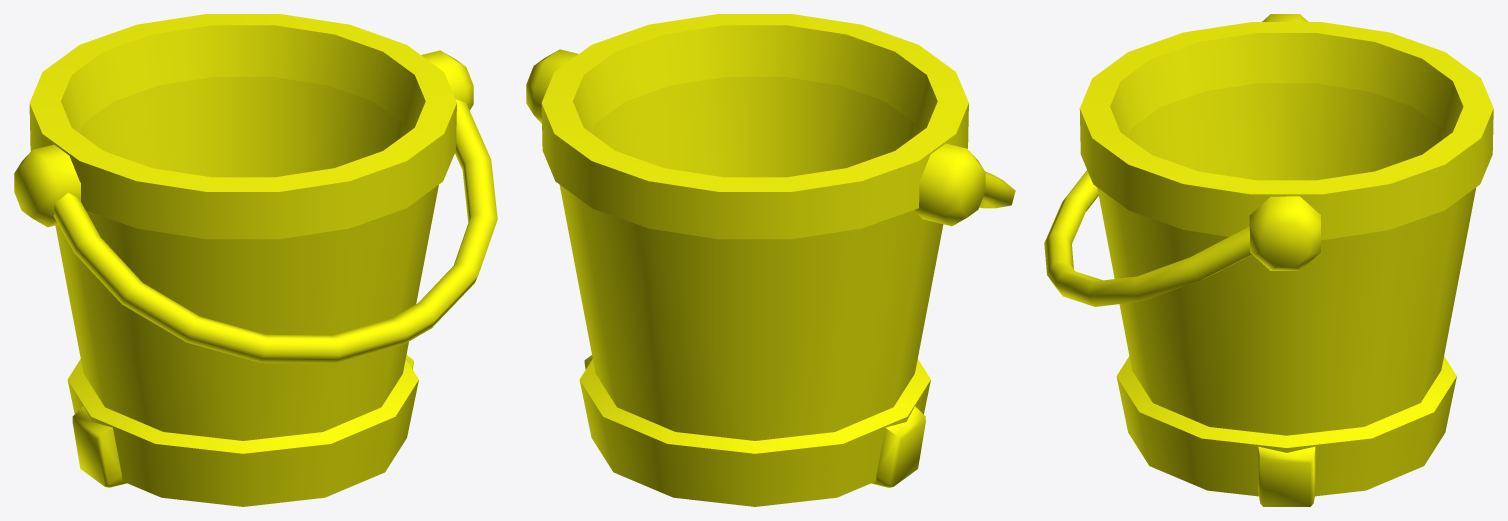
File: copper_bucket.glb
3 views of the same model, side by side, from view 1: azimuth 30°, elevation 25°; view 2: azimuth 150°, elevation 25°; view 3: azimuth 270°, elevation 25° (orthographic). The views are drawn at different scales.
Size of the model in its own units: 0.4854 by 0.3651 by 0.449.
Materials: 1 (1 with a texture image).
